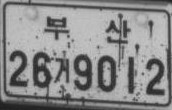0: (96, 54, 116, 93)
1: (121, 55, 139, 93)
2: (8, 49, 28, 88), (145, 57, 165, 96)
6: (31, 50, 52, 88)
9: (72, 53, 93, 91)
거: (53, 56, 70, 84)
부산_D: (42, 14, 131, 45)
